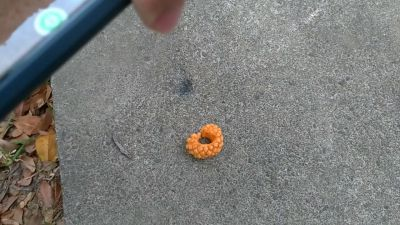eggs: (185, 120, 224, 161)
